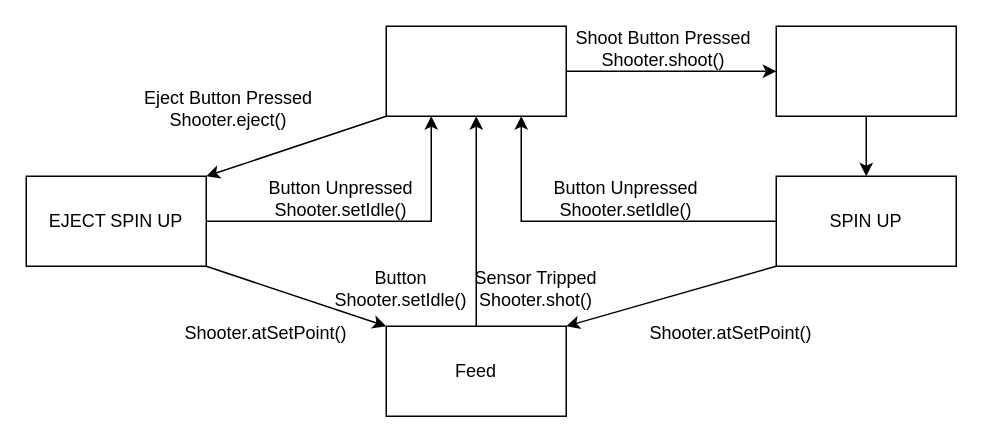
This 983x443 diagram has some shape labels left out. Here are the shapes that lost their labels. From the top down, the box of each, then its label:
(385, 25, 566, 116): IDLE
(775, 25, 956, 116): Targeting
